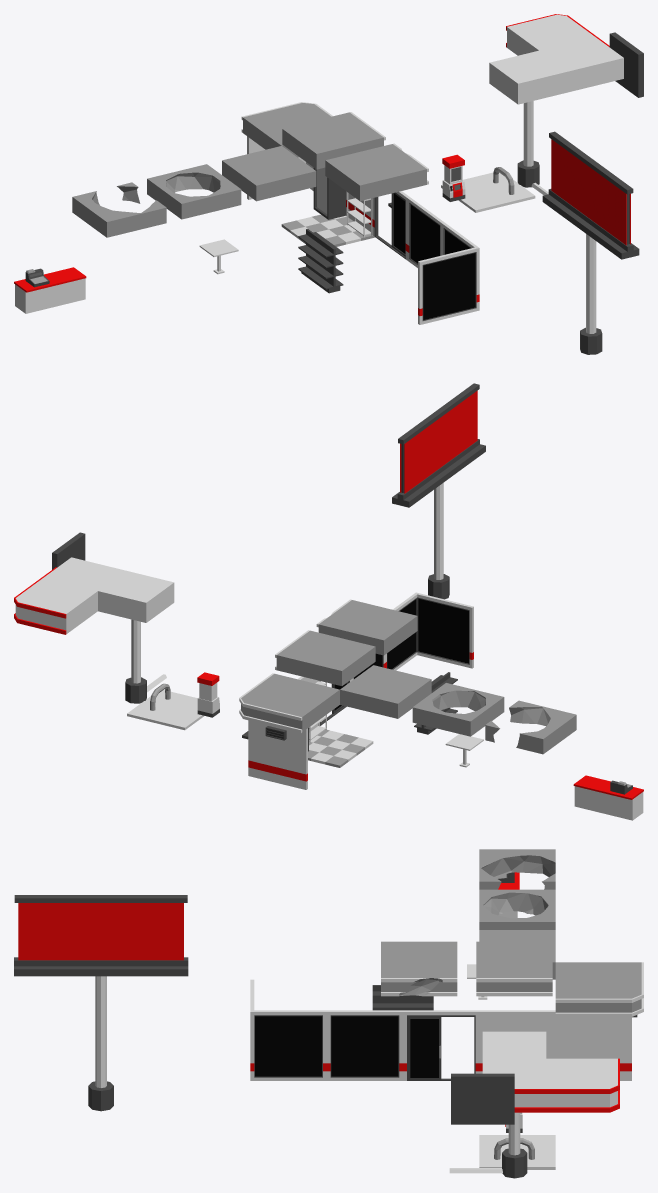
The model's file is Gas Station.fbx.
3 views of the same model, one above another, from view 1: azimuth 30°, elevation 25°; view 2: azimuth 150°, elevation 25°; view 3: azimuth 270°, elevation 25° (orthographic). The views are drawn at different scales.
Visible parts, largest first — view 1: Billboard 1, Window Corner, Roof 1 Ruin, Roof 1, Roof 2, Roof 2 Ruin 1, Overhang 2, Overhang 1, Roof 2 Ruin 2, Overhang Corner, Roof Corner, Counter (+12 smaller); view 2: Billboard 1, Window Corner, Roof Corner, Roof 1, Overhang Corner, Roof 1 Ruin, Roof 2, Roof 2 Ruin 1, Wall Corner, Overhang 2, Roof 2 Ruin 2, Counter (+6 smaller); view 3: Billboard 1, Window Corner, Window, Roof Corner, Roof 1, Roof 1 Ruin, Overhang Corner, Wall Corner, Sign, Roof 2 Ruin 1, Roof 2 Ruin 2, Overhang 1 (+8 smaller).
Part boxes in pixels (left/top/right/bottom): Billboard 1: left=542, top=131, right=639, bottom=354; Window Corner: left=418, top=223, right=479, bottom=324; Roof 1 Ruin: left=325, top=143, right=428, bottom=200; Roof 1: left=282, top=112, right=385, bottom=169; Roof 2: left=222, top=146, right=316, bottom=201; Roof 2 Ruin 1: left=147, top=164, right=241, bottom=219; Overhang 2: left=489, top=50, right=567, bottom=104; Overhang 1: left=539, top=36, right=623, bottom=92; Roof 2 Ruin 2: left=72, top=182, right=166, bottom=237; Overhang Corner: left=506, top=14, right=596, bottom=55; Roof Corner: left=241, top=102, right=332, bottom=157; Counter: left=14, top=267, right=86, bottom=313; Billboard 1: left=392, top=383, right=485, bottom=599; Window Corner: left=385, top=592, right=473, bottom=670; Roof Corner: left=239, top=673, right=339, bottom=732; Roof 1: left=275, top=630, right=375, bottom=685; Overhang Corner: left=14, top=577, right=97, bottom=634; Roof 1 Ruin: left=316, top=599, right=417, bottom=655; Roof 2: left=340, top=665, right=431, bottom=718; Roof 2 Ruin 1: left=412, top=683, right=504, bottom=736; Wall Corner: left=248, top=720, right=307, bottom=789; Overhang 2: left=98, top=570, right=174, bottom=622; Roof 2 Ruin 2: left=485, top=700, right=576, bottom=754; Counter: left=573, top=775, right=643, bottom=820; Billboard 1: left=14, top=895, right=188, bottom=1111; Window Corner: left=250, top=979, right=326, bottom=1080; Window: left=326, top=1010, right=402, bottom=1080; Roof Corner: left=555, top=962, right=643, bottom=1016; Roof 1: left=476, top=941, right=552, bottom=996; Roof 1 Ruin: left=381, top=941, right=457, bottom=996; Overhang Corner: left=546, top=1058, right=619, bottom=1112; Wall Corner: left=555, top=1017, right=631, bottom=1080; Sign: left=451, top=1073, right=514, bottom=1124; Roof 2 Ruin 1: left=479, top=889, right=555, bottom=929; Roof 2 Ruin 2: left=479, top=849, right=555, bottom=889; Overhang 1: left=482, top=1058, right=546, bottom=1112.
Size of the model in its own units: 2404 by 732 by 1981.
